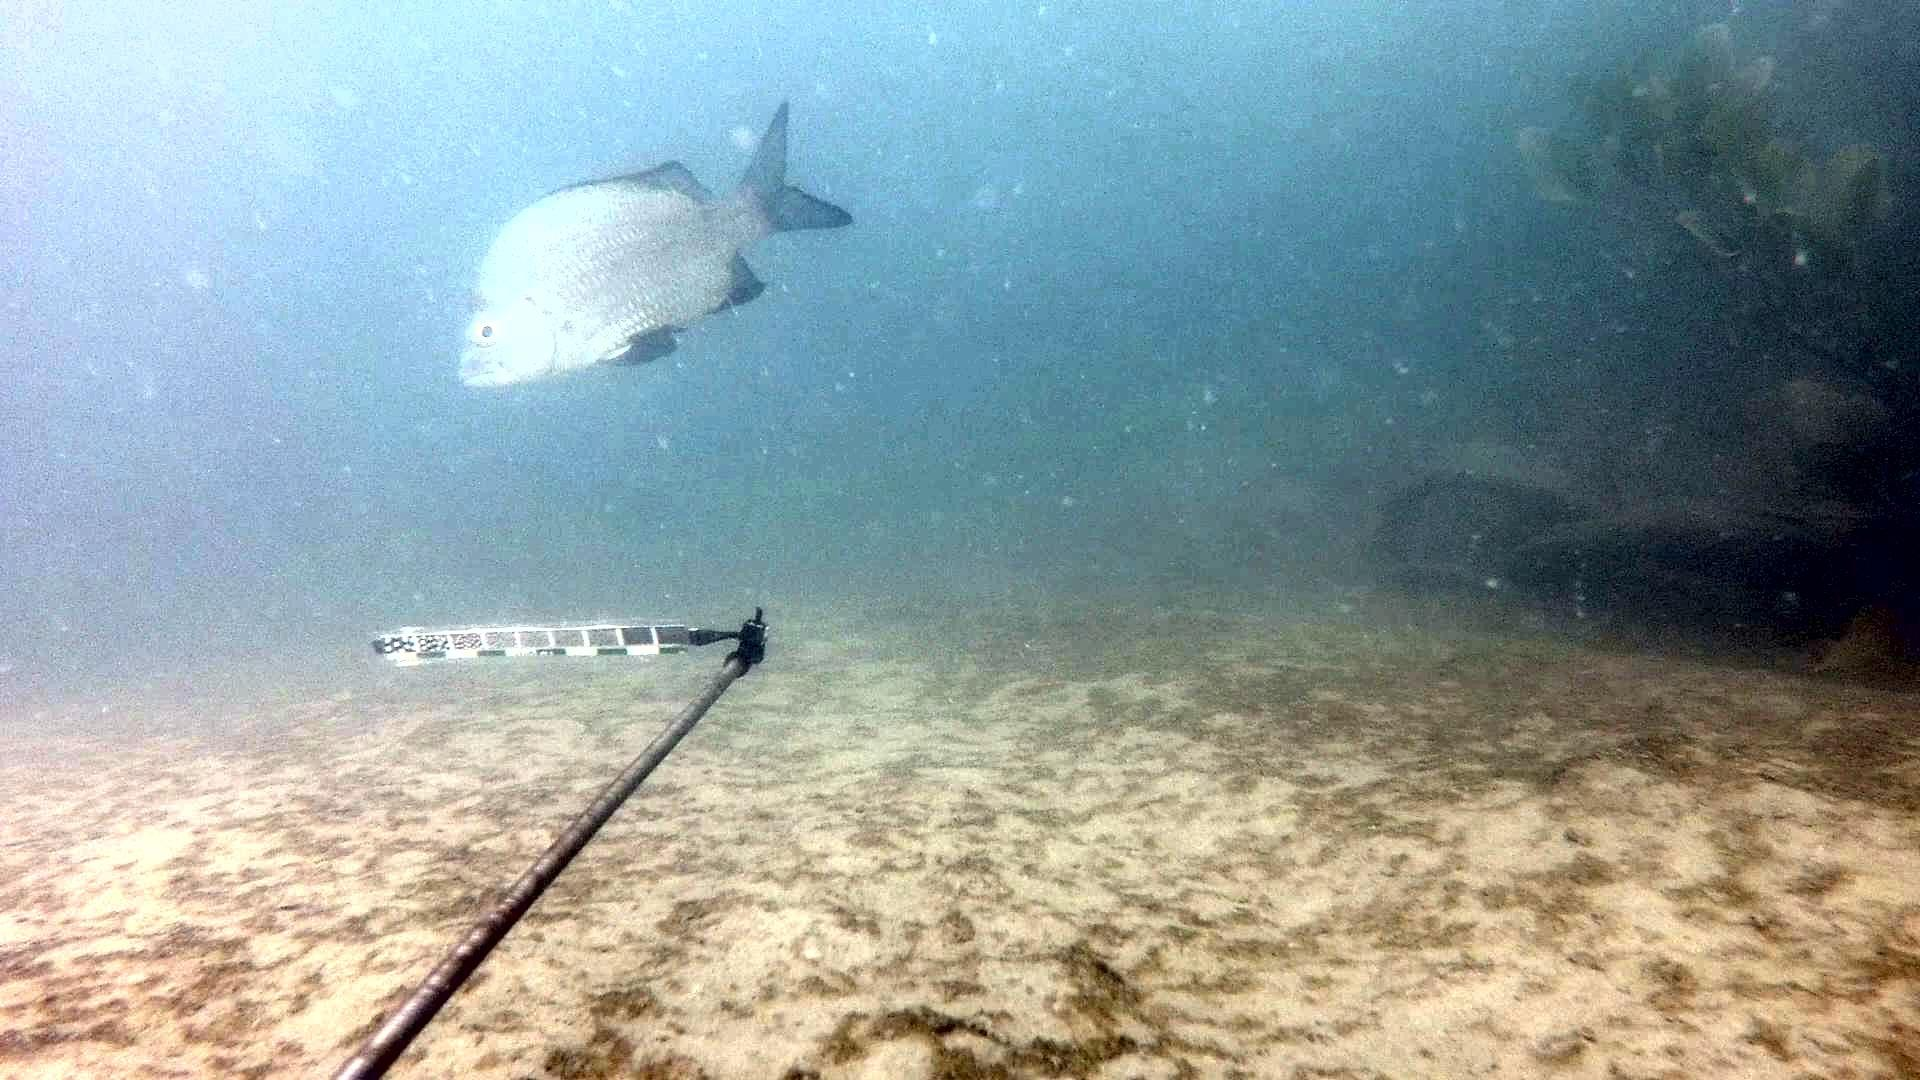acanthopagrus palmaris: (446, 82, 865, 406)
